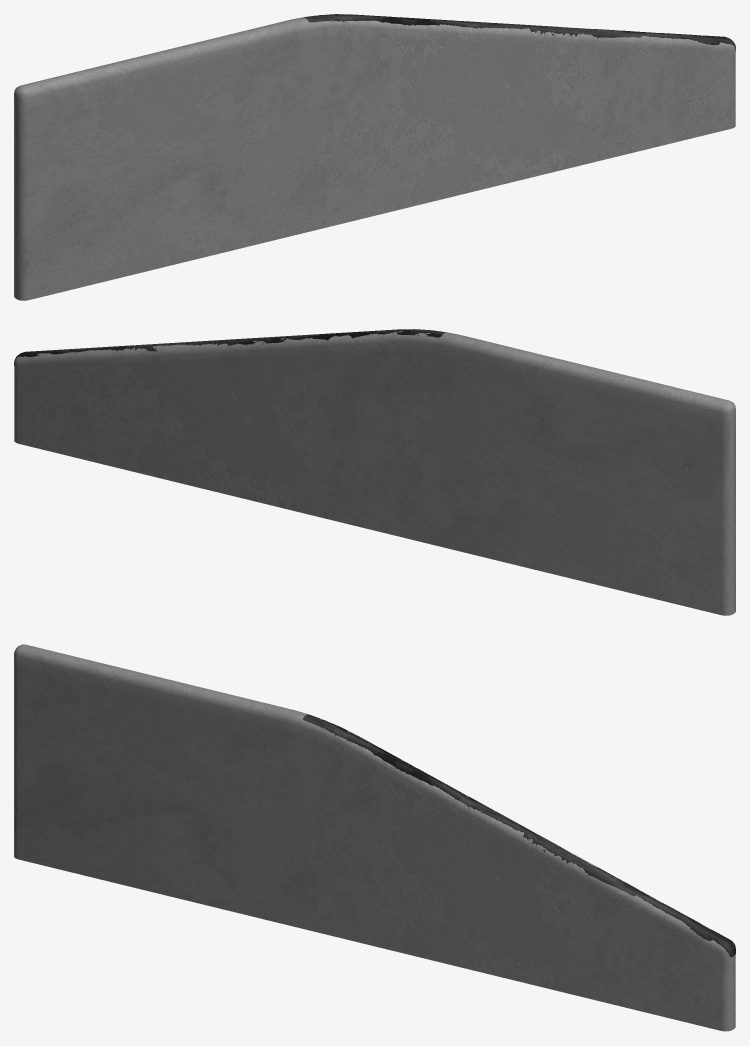
Rendered from stairBox1.fbx.
3 renders of one model, top to bottom at view 1: azimuth 30°, elevation 25°; view 2: azimuth 150°, elevation 25°; view 3: azimuth 330°, elevation 25°, orthographic.
Parts seen in each view (by area): view 1: stairBox.001base, stairBox.001colider, stairBox.001decalc; view 2: stairBox.001base, stairBox.001colider, stairBox.001decalc; view 3: stairBox.001base, stairBox.001colider, stairBox.001decalc.
Part boxes in pixels (x1,y1,x2,y2): stairBox.001base: (14, 36, 735, 300); stairBox.001colider: (14, 14, 735, 108); stairBox.001decalc: (304, 14, 735, 50); stairBox.001base: (14, 351, 735, 615); stairBox.001colider: (14, 330, 735, 423); stairBox.001decalc: (14, 329, 445, 365); stairBox.001base: (14, 665, 735, 1031); stairBox.001colider: (14, 644, 733, 957); stairBox.001decalc: (302, 714, 735, 957).
Bounding box in the file's own units: 818 × 229 × 19.63.
